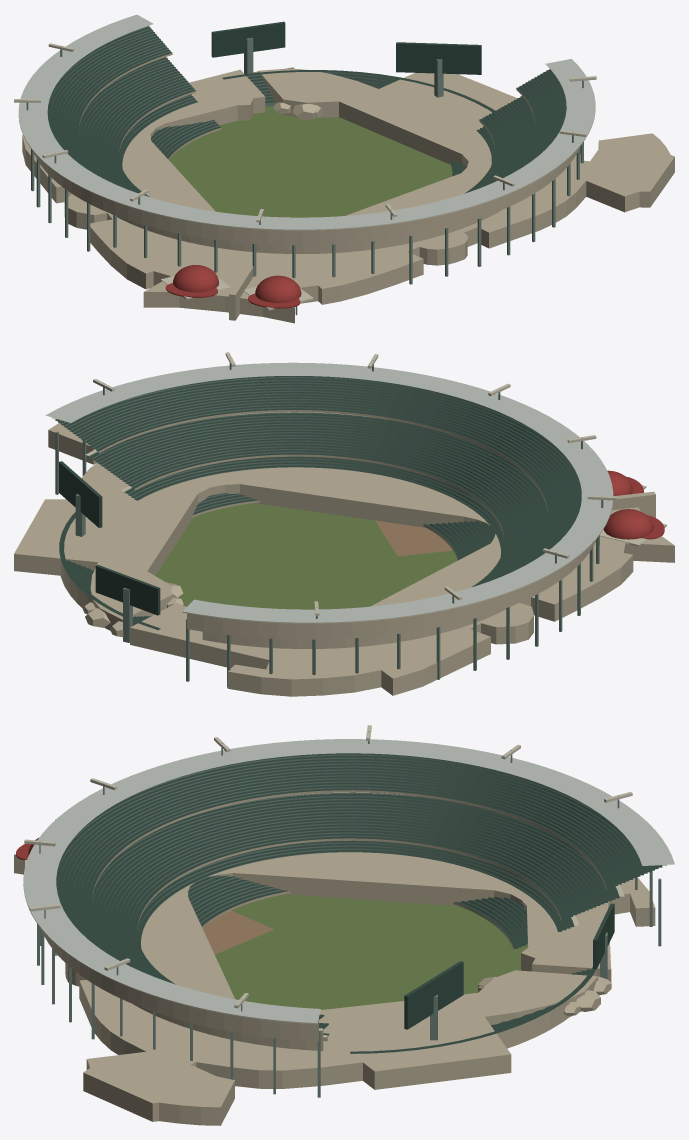
The model's file is angel-stadium-near.glb.
3 renders of one model, top to bottom at view 1: azimuth 30°, elevation 25°; view 2: azimuth 150°, elevation 25°; view 3: azimuth 270°, elevation 25°, orthographic. The views are drawn at different scales.
Visible parts, largest first — view 1: angel-stadium-0-stone, angel-stadium-0-dark, angel-stadium-0-turf, angel-stadium-0-roof, angel-stadium-0-metal, angel-stadium-0-accent, angel-stadium-0-trim; view 2: angel-stadium-0-stone, angel-stadium-0-dark, angel-stadium-0-metal, angel-stadium-0-turf, angel-stadium-0-roof, angel-stadium-0-trim, angel-stadium-0-accent, angel-stadium-0-dirt; view 3: angel-stadium-0-stone, angel-stadium-0-dark, angel-stadium-0-metal, angel-stadium-0-turf, angel-stadium-0-roof, angel-stadium-0-trim, angel-stadium-0-dirt.
Part boxes in pixels (box(x1,y1,x2,y2)): angel-stadium-0-stone: box(22, 53, 674, 323); angel-stadium-0-dark: box(47, 21, 566, 196); angel-stadium-0-turf: box(169, 106, 452, 217); angel-stadium-0-roof: box(18, 14, 595, 229); angel-stadium-0-metal: box(26, 26, 583, 315); angel-stadium-0-accent: box(165, 265, 301, 308); angel-stadium-0-trim: box(14, 43, 596, 310); angel-stadium-0-stone: box(14, 410, 674, 696); angel-stadium-0-dark: box(55, 376, 581, 629); angel-stadium-0-metal: box(55, 358, 603, 687); angel-stadium-0-turf: box(155, 503, 457, 609); angel-stadium-0-roof: box(45, 362, 613, 622); angel-stadium-0-trim: box(51, 352, 666, 623); angel-stadium-0-accent: box(603, 470, 664, 539); angel-stadium-0-dirt: box(375, 520, 452, 556); angel-stadium-0-stone: box(14, 790, 655, 1125); angel-stadium-0-dark: box(56, 753, 662, 1053); angel-stadium-0-metal: box(37, 731, 662, 1097); angel-stadium-0-turf: box(215, 894, 527, 1009); angel-stadium-0-roof: box(23, 739, 674, 1023); angel-stadium-0-trim: box(23, 725, 667, 1037); angel-stadium-0-dirt: box(202, 910, 273, 954).
Bounding box in the file's own units: 279 × 39 × 253.
